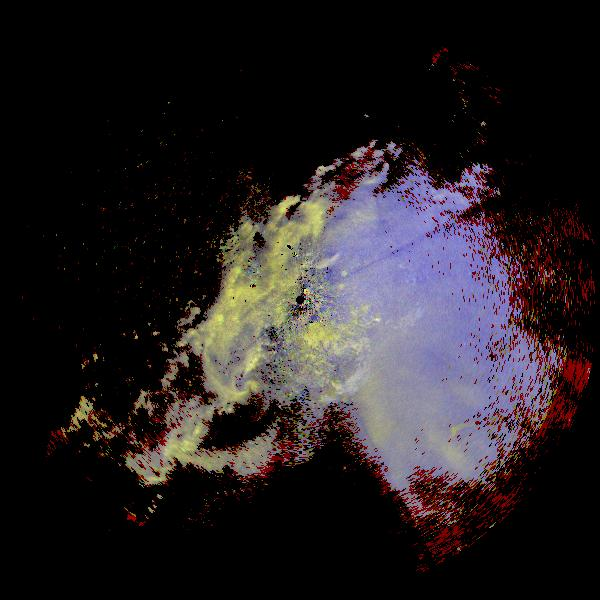roost: (435, 415, 501, 481)
